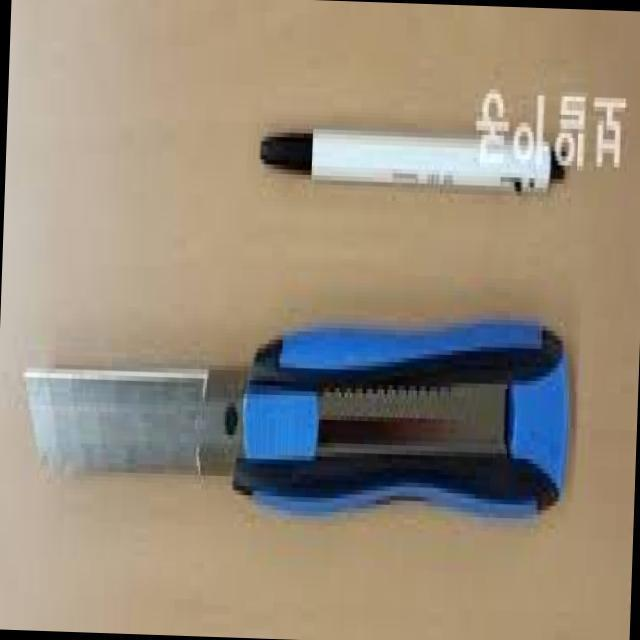cutter: (14, 332, 590, 542)
